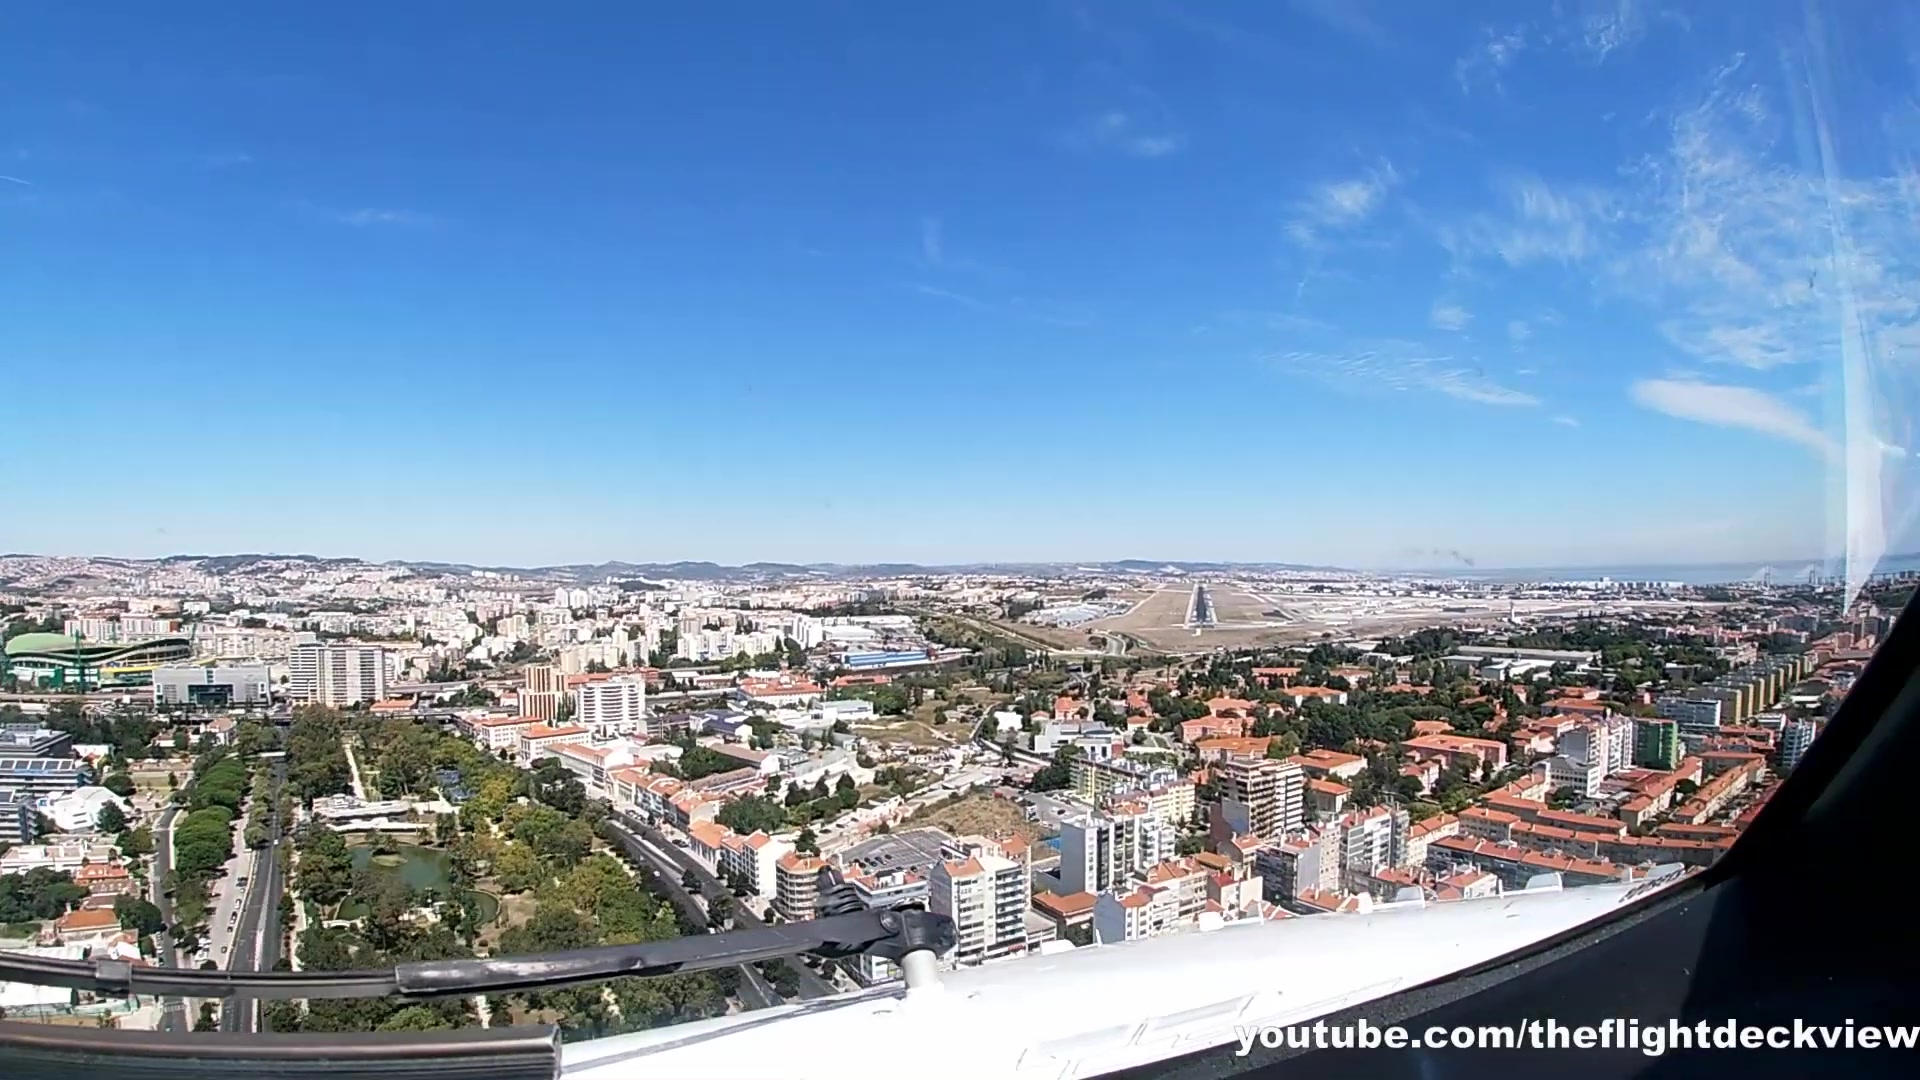runway: (1179, 582, 1226, 632)
